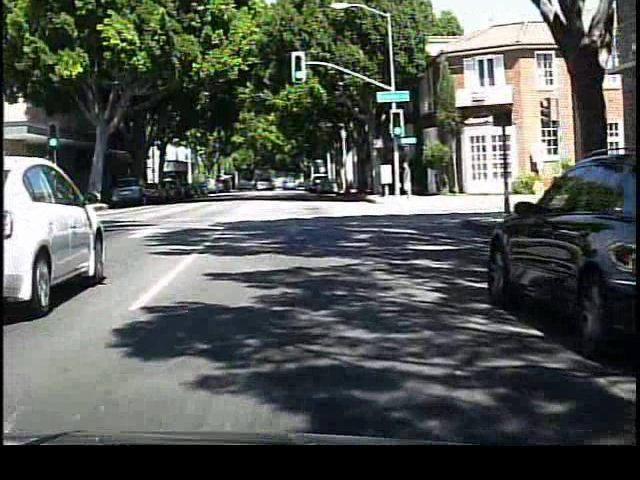person: (399, 157, 419, 204)
